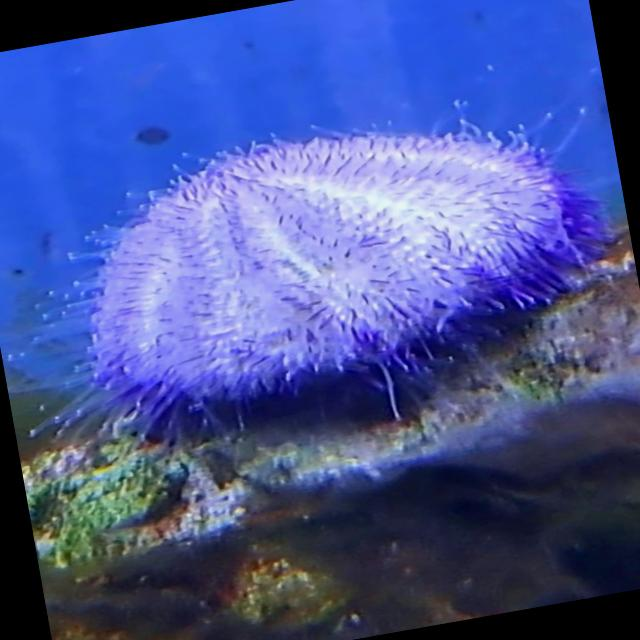Deniz Kestanesi: (4, 51, 640, 474)
